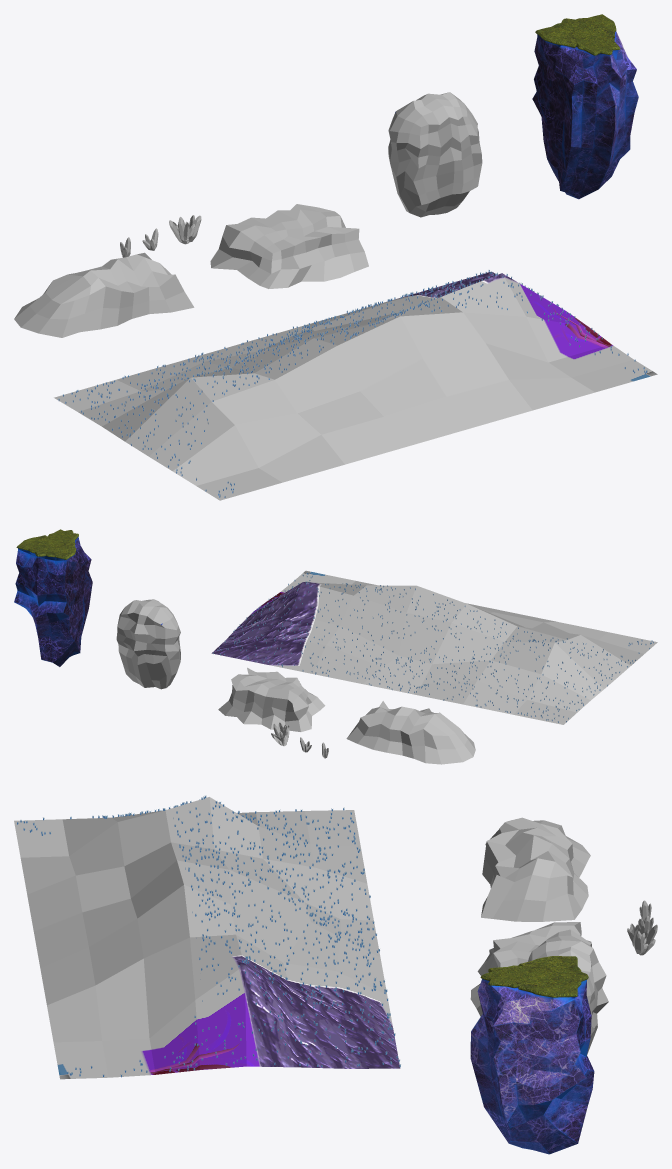
Rendered from Map3Props.fbx.
3 renders of one model, top to bottom at view 1: azimuth 30°, elevation 25°; view 2: azimuth 150°, elevation 25°; view 3: azimuth 270°, elevation 25°, orthographic. The views are drawn at different scales.
Parts seen in each view (by area): view 1: Plane003, Box004, Box003, Box002, Box001, Plane011; view 2: Plane003, Box004, Box001, Box003, Box002, Plane011; view 3: Plane003, Box004, Box001, Plane011, Box003, Box002, Icosphere.008.
Boxes of the visible parts, bbox=[...] form: Plane003: bbox=[54, 271, 657, 500]; Box004: bbox=[532, 14, 638, 199]; Box003: bbox=[388, 92, 482, 217]; Box002: bbox=[210, 204, 368, 288]; Box001: bbox=[14, 252, 194, 337]; Plane011: bbox=[58, 270, 647, 497]; Plane003: bbox=[211, 570, 657, 724]; Box004: bbox=[14, 529, 92, 666]; Box001: bbox=[346, 701, 475, 764]; Box003: bbox=[116, 599, 180, 689]; Box002: bbox=[218, 667, 325, 731]; Plane011: bbox=[213, 572, 653, 722]; Plane003: bbox=[14, 797, 400, 1079]; Box004: bbox=[470, 956, 594, 1154]; Box001: bbox=[481, 817, 590, 921]; Plane011: bbox=[17, 795, 400, 1077]; Box003: bbox=[528, 929, 608, 1054]; Box002: bbox=[470, 922, 581, 1016]; Icosphere.008: bbox=[627, 918, 657, 955].
Size of the model in its own units: 5053 by 1197 by 3752.
